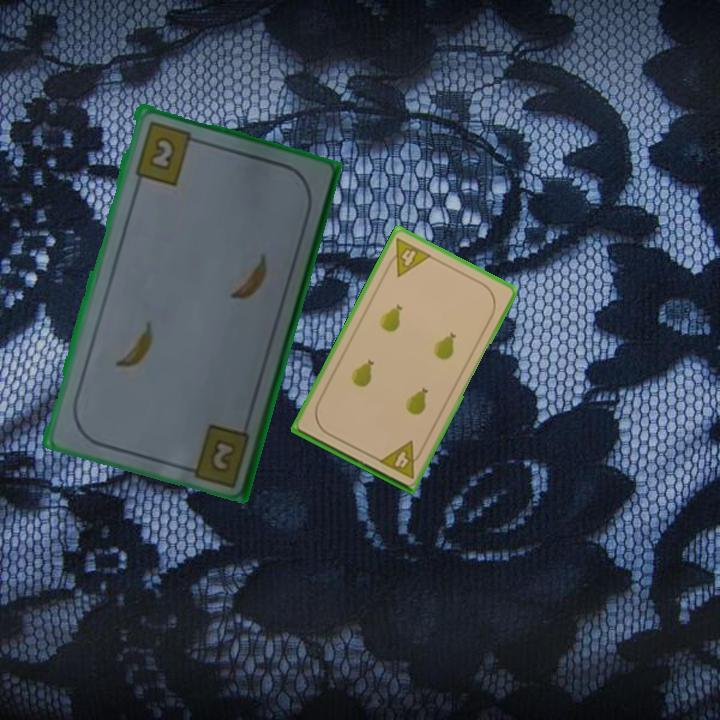2b: (131, 117, 202, 188), (209, 435, 239, 472)
4p: (382, 234, 434, 280), (375, 437, 426, 481)
